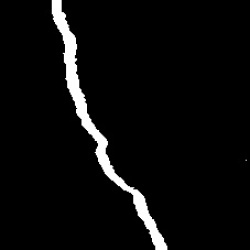crack: (51, 1, 168, 248)
